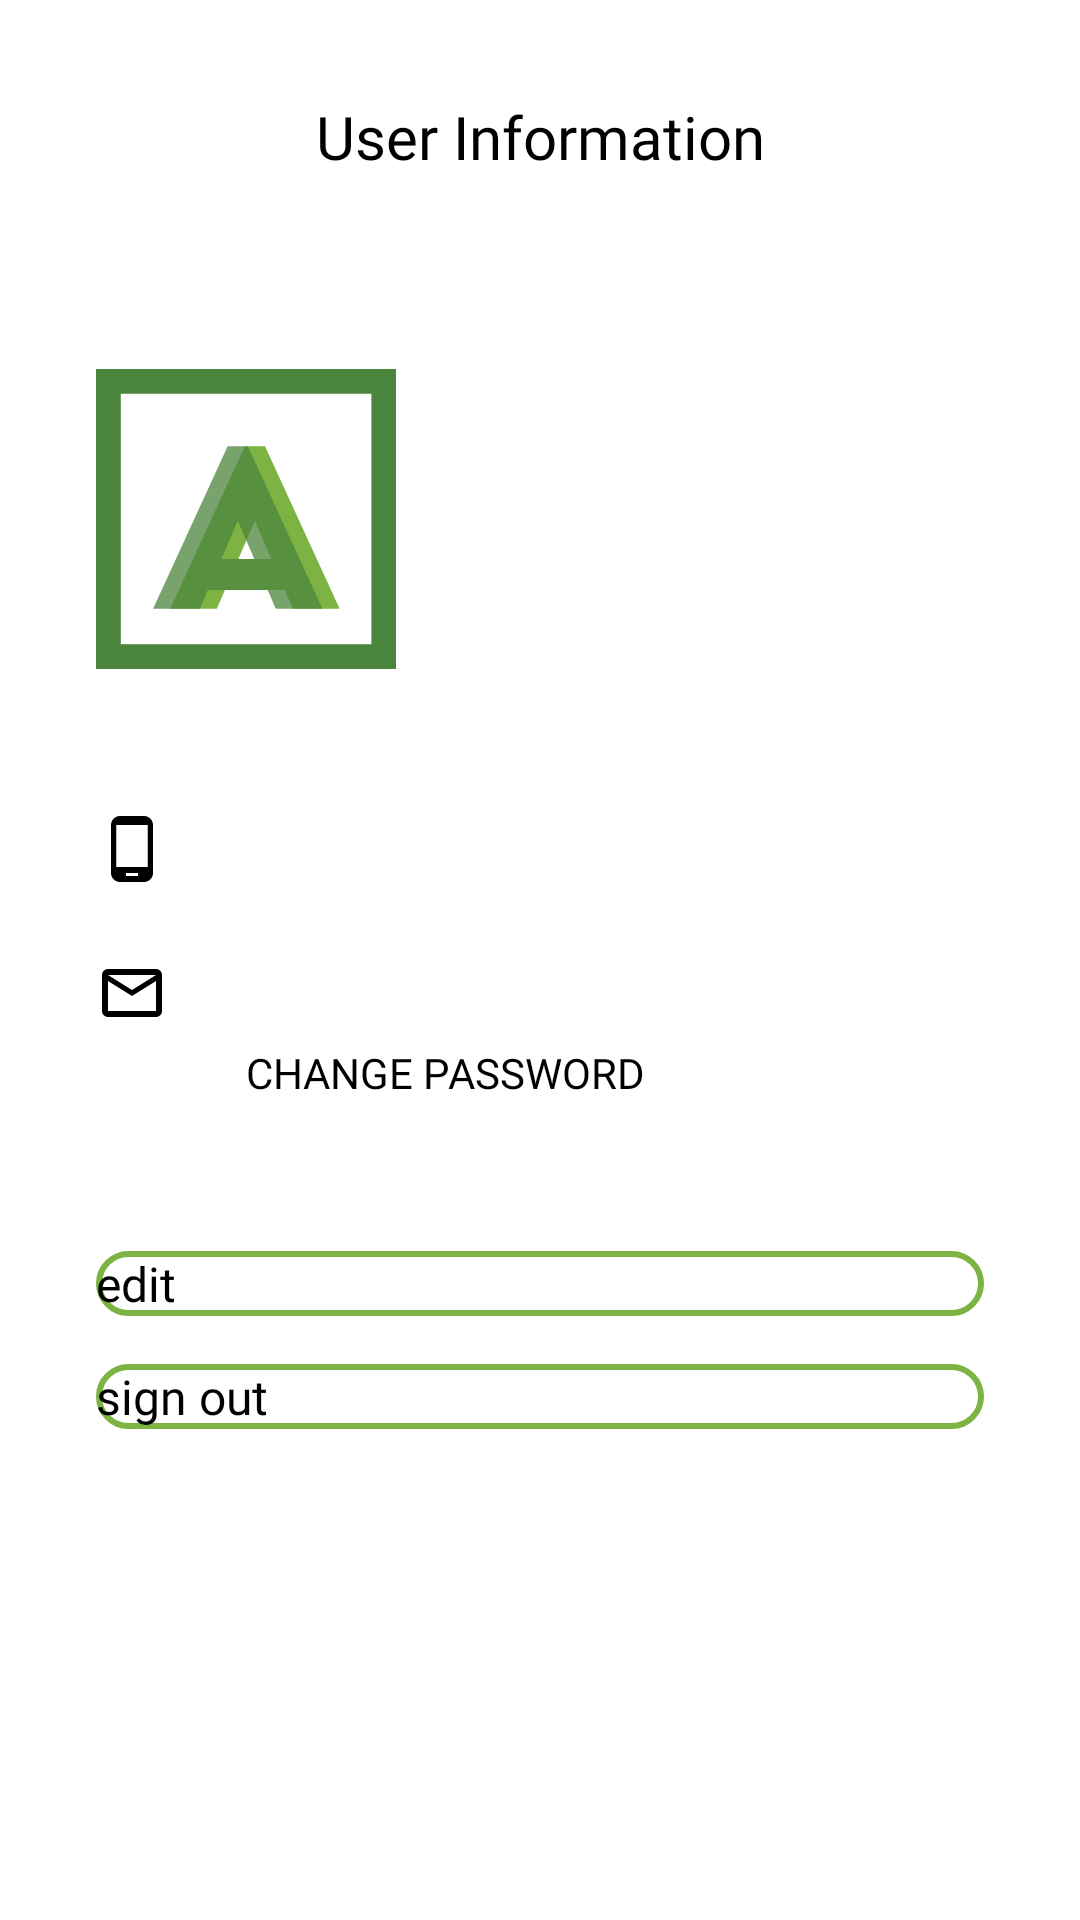

Icons on this 1080 × 1920 Android screen, each with the point to tap as [x,y]:
email: [132,993]
phone: [132,849]
